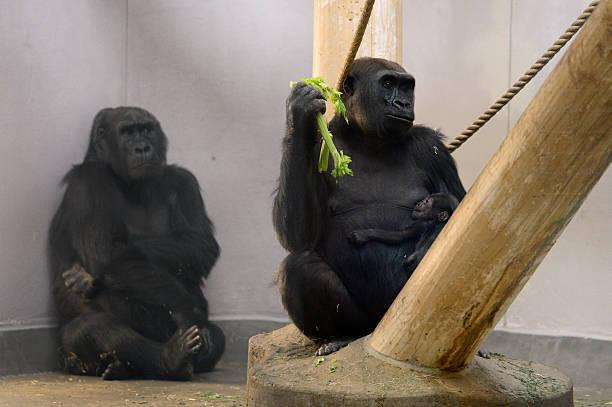gorille_Autres: (36, 73, 227, 399), (248, 45, 453, 321)
